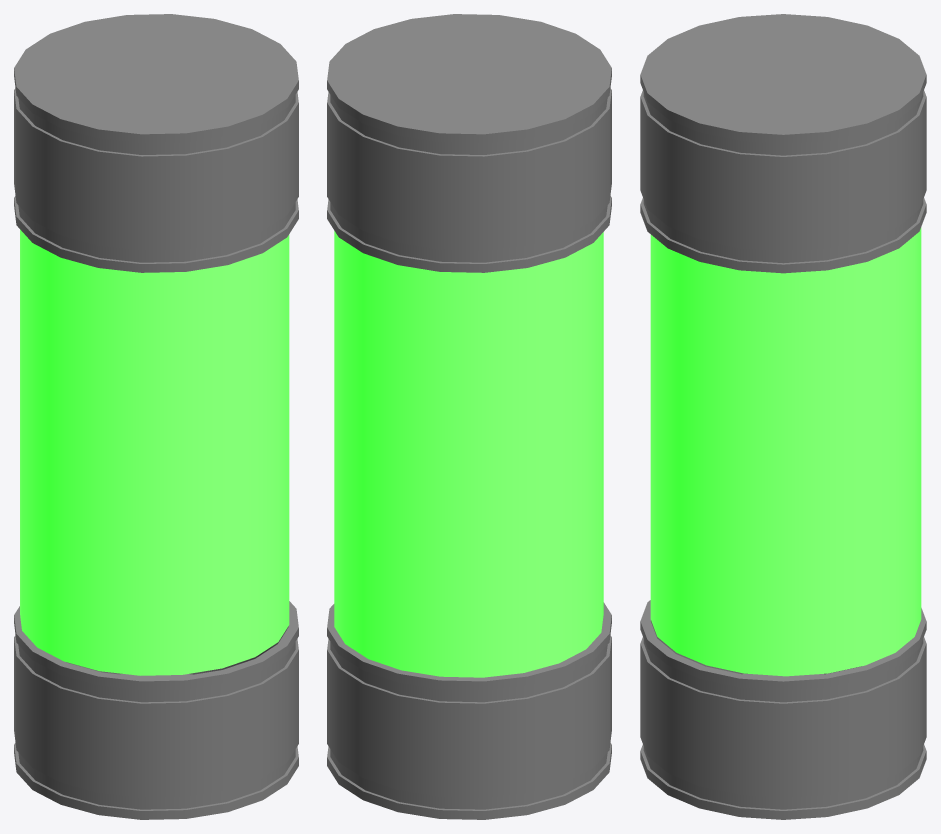
The model's file is vial.fbx.
3 renders of one model, left to right at view 1: azimuth 30°, elevation 25°; view 2: azimuth 150°, elevation 25°; view 3: azimuth 270°, elevation 25°, orthographic.
Parts seen in each view (by area): view 1: T_Virus_Glass, T_Virus_MetalPlates; view 2: T_Virus_Glass, T_Virus_MetalPlates; view 3: T_Virus_Glass, T_Virus_MetalPlates.
Part boxes in pixels (x1=…): T_Virus_Glass: x1=20, y1=229, x2=289, y2=675; T_Virus_MetalPlates: x1=14, y1=14, x2=298, y2=819; T_Virus_Glass: x1=334, y1=231, x2=603, y2=677; T_Virus_MetalPlates: x1=327, y1=14, x2=611, y2=819; T_Virus_Glass: x1=650, y1=227, x2=921, y2=676; T_Virus_MetalPlates: x1=640, y1=14, x2=926, y2=819.
Bounding box in the file's own units: 183 × 484 × 183.
